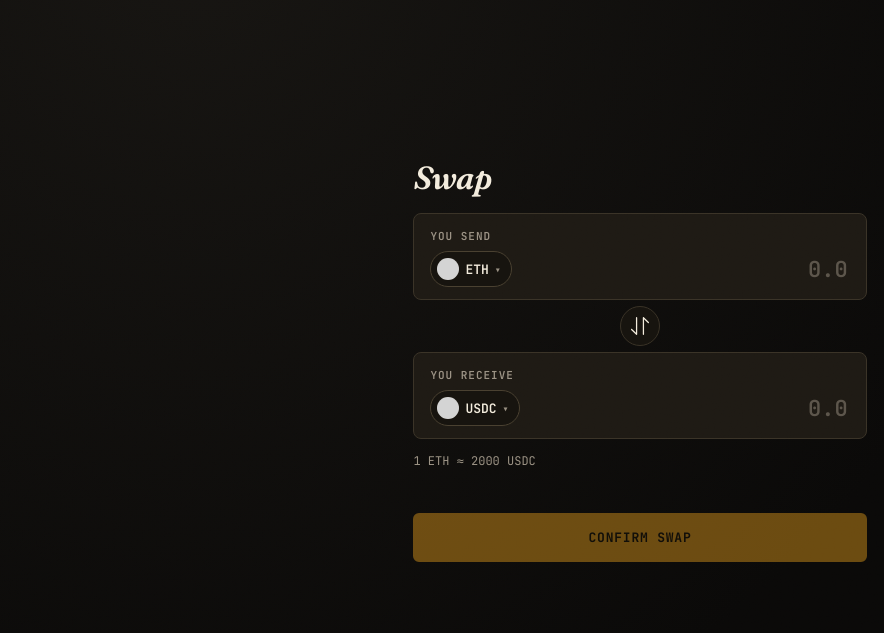
Test case: SwapForm › disables submit and shows an error when both sides use the same token
This screenshot has width=884, height=633.
Type "1" into the field labelled "You send".
click(686, 269); type("1")  # box x1=522 y1=254 x2=850 y2=284
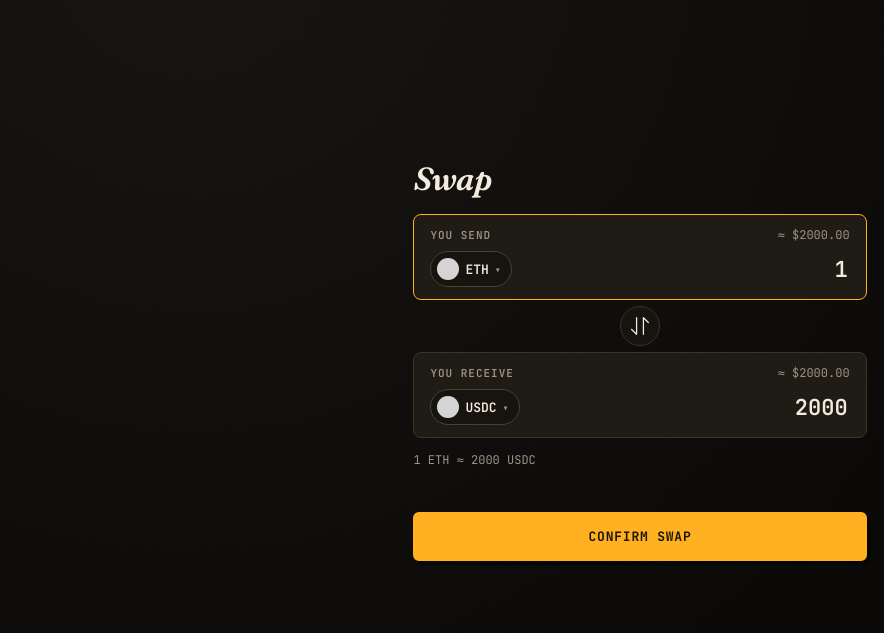
# Switch the "to" token to match the "from" token (ETH).
Click the button "USDC ▾".
click(475, 407)  # box x1=430 y1=389 x2=520 y2=425
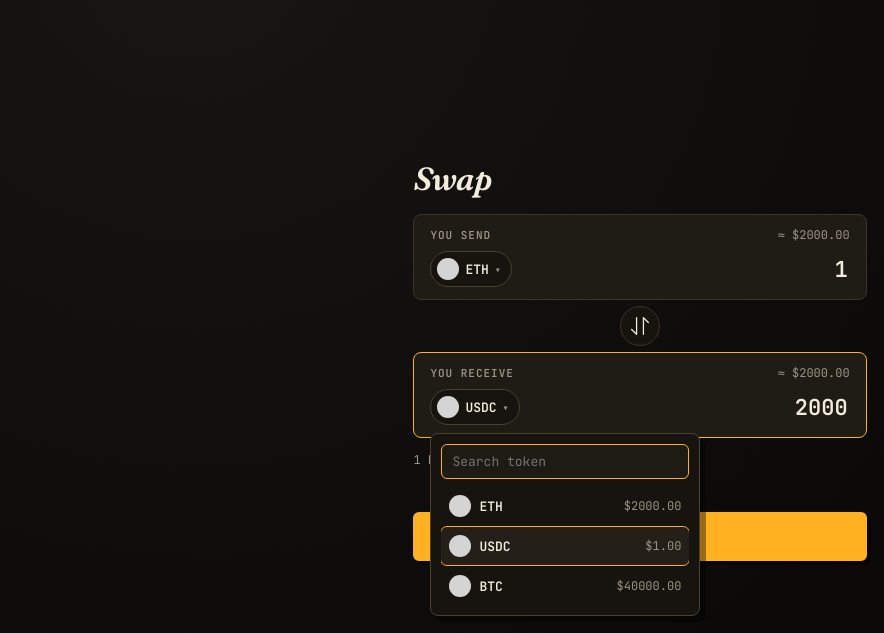
Click the option "ETH $2000.00".
click(653, 506)  # box x1=449 y1=495 x2=681 y2=517
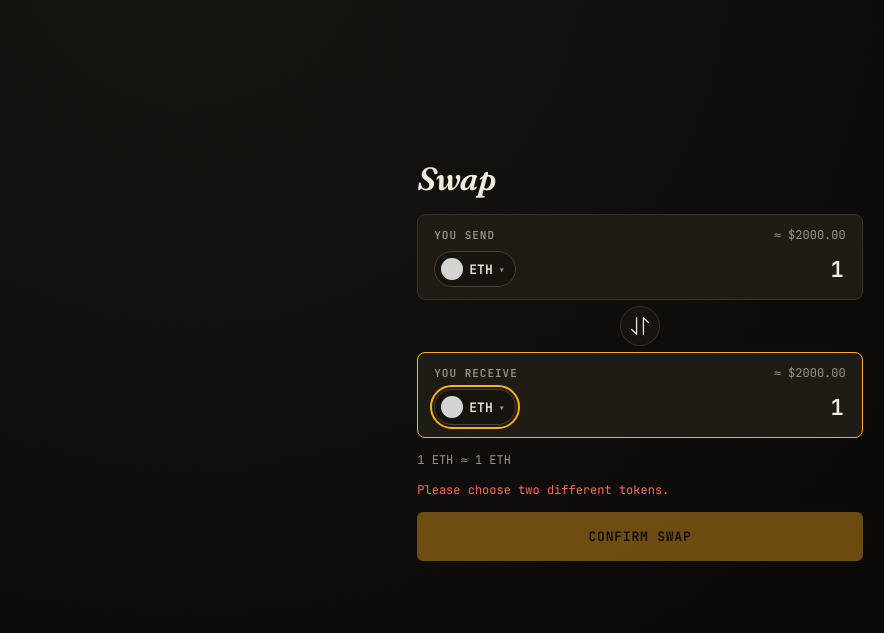
Check: the message reads "Please choose two different tokens.", box x1=417 y1=482 x2=669 y2=498
Check: the button "Confirm Swap" is disabled, box x1=417 y1=512 x2=863 y2=561
